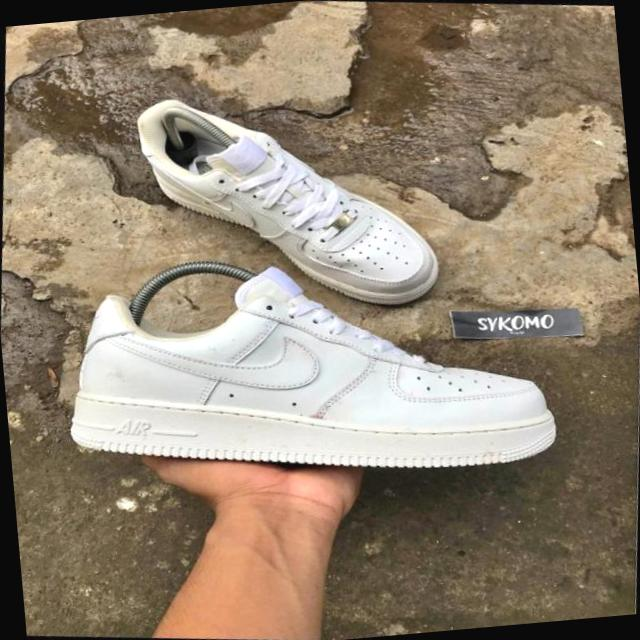nike_original_airforce: (47, 215, 602, 518), (114, 69, 460, 329)
